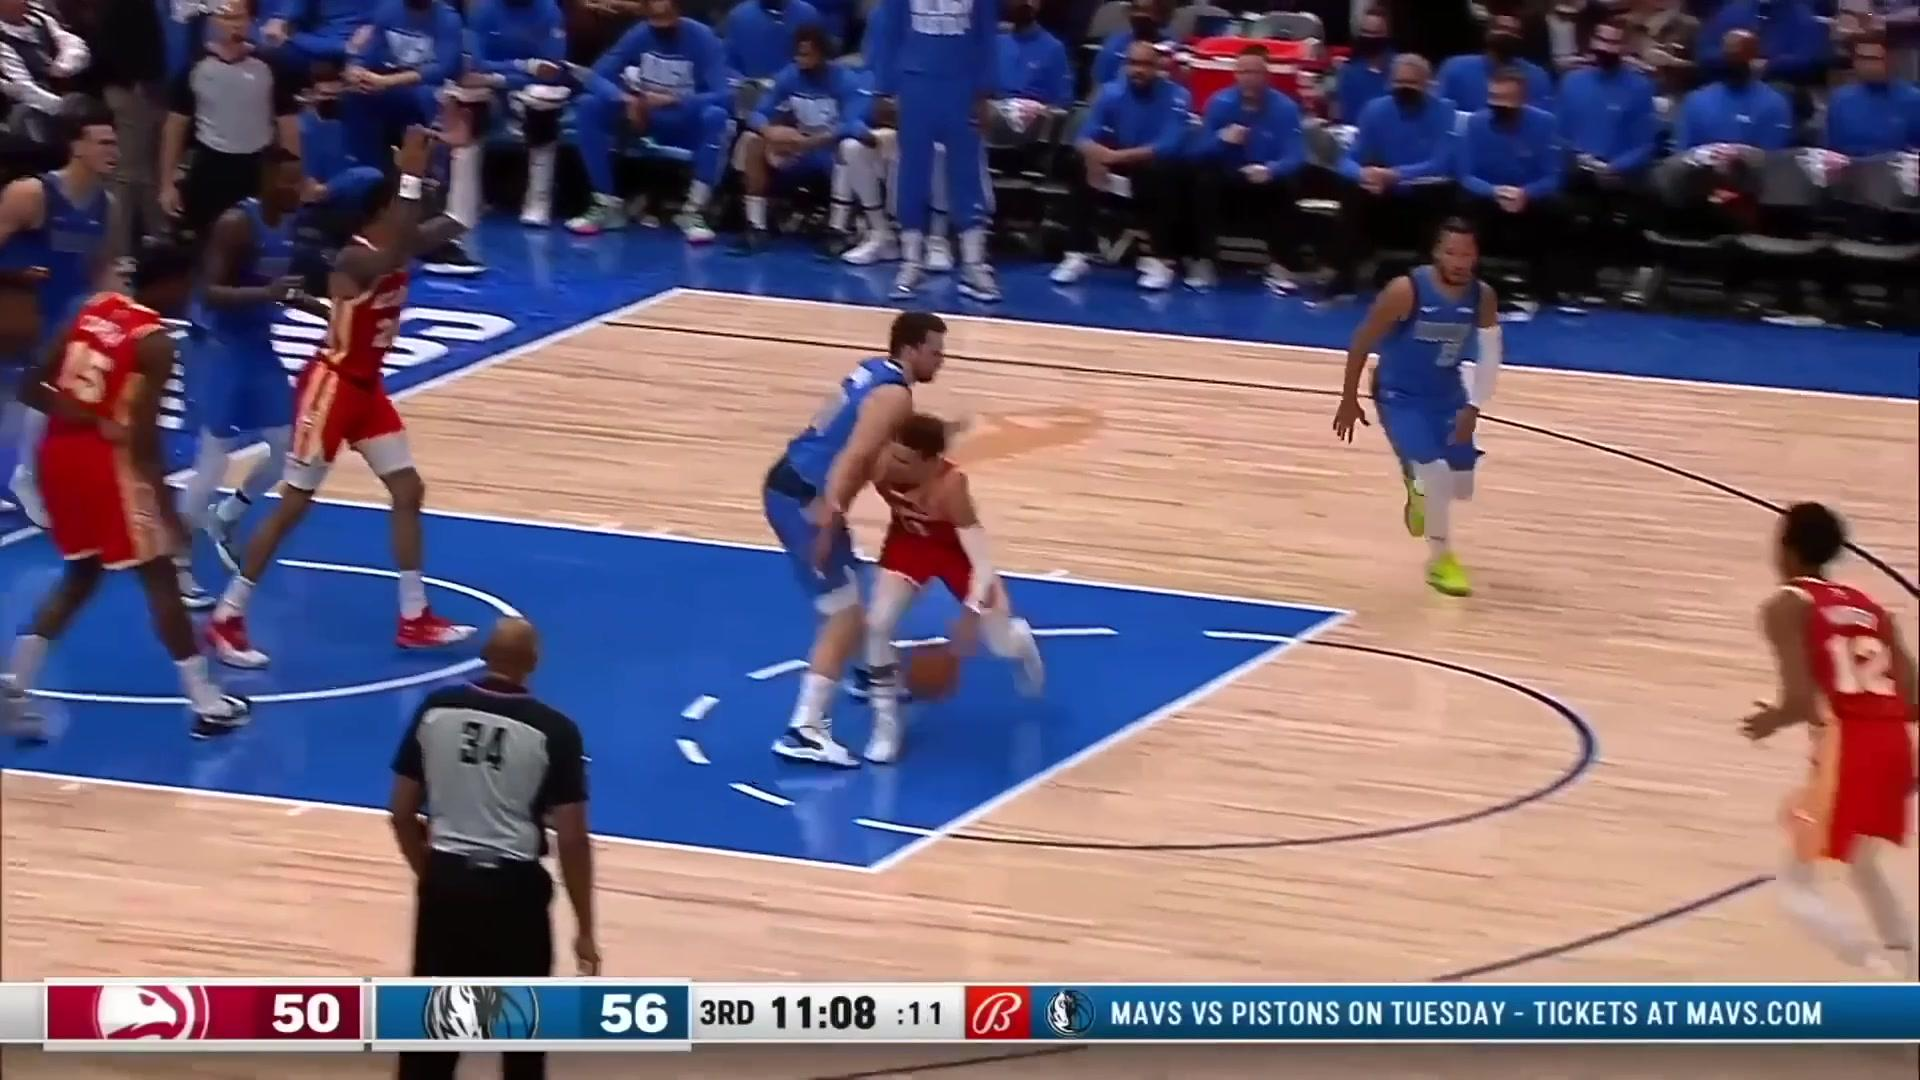foul: (745, 307, 1089, 765)
